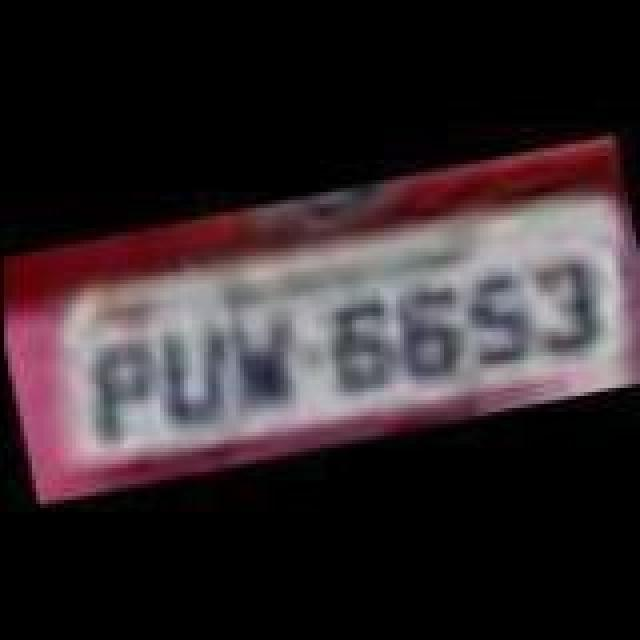3: (524, 252, 604, 356)
5: (460, 264, 540, 372)
6: (324, 288, 404, 396), (390, 282, 466, 386)
P: (76, 330, 164, 454)
U: (146, 316, 230, 432)
W: (216, 298, 304, 418)
